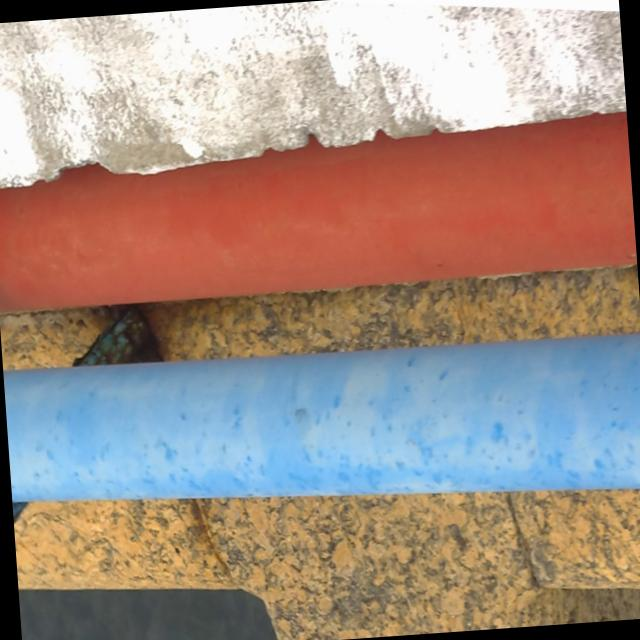gas: (2, 321, 640, 531), (0, 109, 636, 309)
